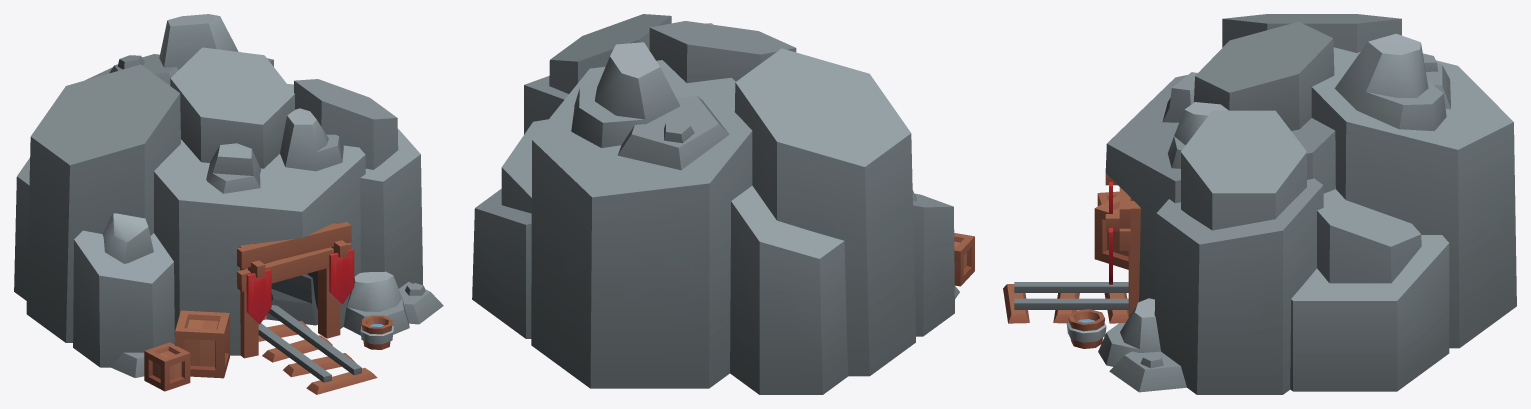
File: mine_red.glb
The picture shows the model from 3 angles, left to right: view 1: azimuth 30°, elevation 25°; view 2: azimuth 150°, elevation 25°; view 3: azimuth 270°, elevation 25°; orthographic projection. The views are drawn at different scales.
Visible parts, largest first — view 1: building_mine_red; view 2: building_mine_red; view 3: building_mine_red.
Boxes of the visible parts, x1,y1,x2,y2 form: building_mine_red: (14,14,443,394); building_mine_red: (472,14,974,394); building_mine_red: (1003,14,1516,394).
Size of the model in its own units: 1.61 by 1.14 by 1.92.
Materials: 1 (1 with a texture image).
